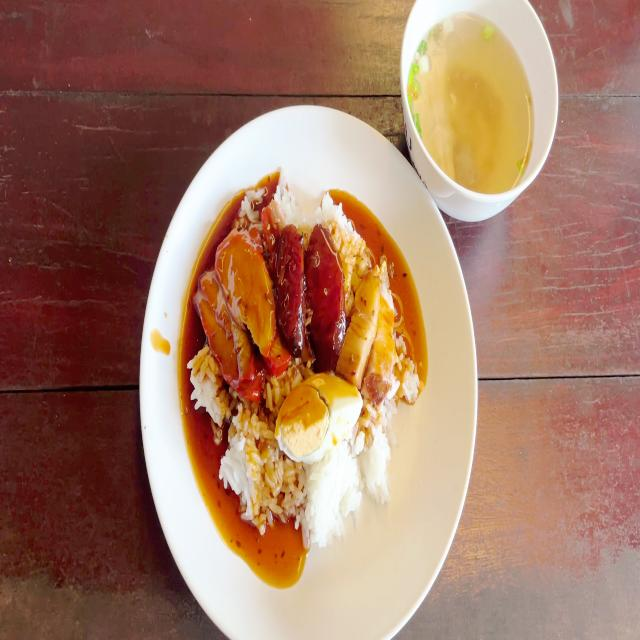boiled_egg: (276, 375, 363, 458)
chainese_sausage: (279, 220, 342, 360), (306, 220, 343, 370), (272, 226, 304, 356)
crispy_pork: (346, 257, 399, 390), (346, 264, 380, 381), (376, 259, 402, 384)
red_pork: (196, 229, 281, 400), (218, 231, 276, 343), (199, 278, 252, 391)
red_pork_and_crispy_pork: (189, 181, 421, 551)
rice: (304, 454, 368, 542), (225, 407, 274, 513)
